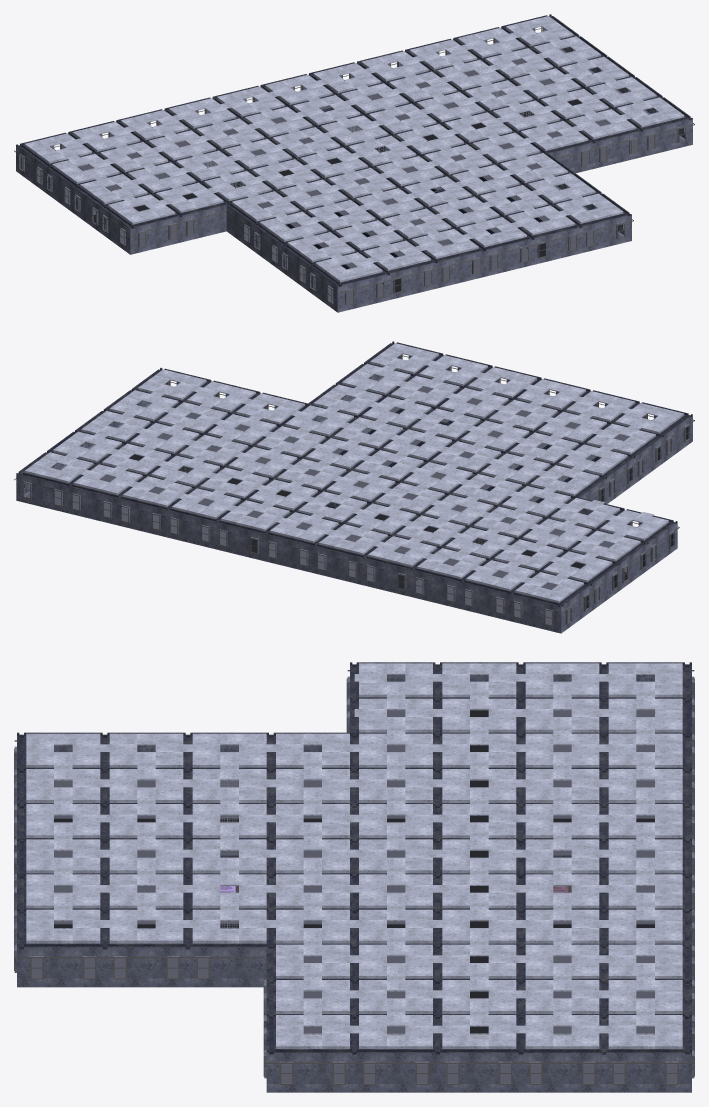
Rendered from room-gallery.glb.
3 views of the same model, one above another, from view 1: azimuth 30°, elevation 25°; view 2: azimuth 150°, elevation 25°; view 3: azimuth 270°, elevation 25° (orthographic). The views are drawn at different scales.
Visible parts, largest first — view 1: Material2.009, Material2.008, Material2.010, Material2.007, Material2, Material2.005; view 2: Material2.009, Material2.008, Material2.010, Material2.007, Material2, Material2.005; view 3: Material2.009, Material2.010, Material2.008, Material2.007, Material2, Material2.005.
Part boxes in pixels (x1,y1,x2,y2): Material2.009: (24,16,684,282); Material2.008: (16,15,692,312); Material2.010: (16,14,692,288); Material2.007: (38,58,683,304); Material2: (14,26,694,305); Material2.005: (93,99,581,292); Material2.009: (24,343,684,602); Material2.008: (16,354,692,633); Material2.010: (16,341,692,608); Material2.007: (25,386,670,624); Material2: (14,354,694,626); Material2.005: (129,454,626,588); Material2.009: (26,663,682,1048); Material2.010: (17,662,691,1054); Material2.008: (14,675,694,1092); Material2.007: (31,710,677,1083); Material2: (14,670,694,1084); Material2.005: (54,710,654,1033).
Size of the model in its own units: 8 by 0.4148 by 5.85.
Materials: 11 (7 with a texture image).
